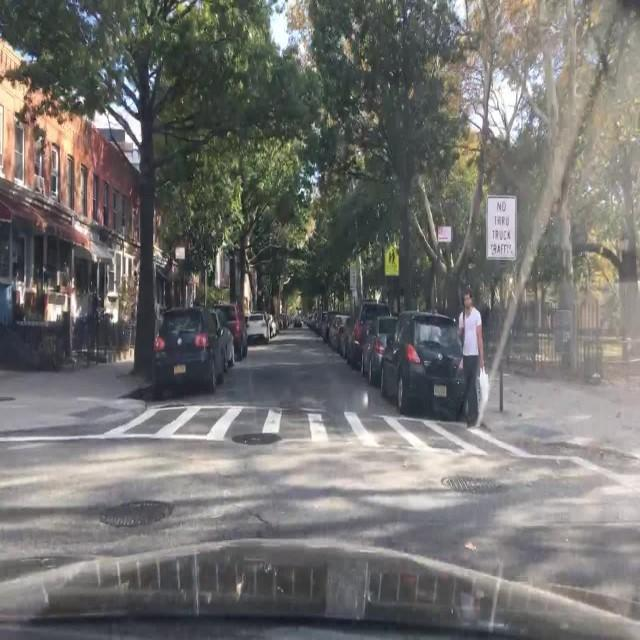normal: (374, 309, 482, 423), (154, 308, 237, 396), (344, 301, 393, 373), (216, 304, 248, 362), (246, 312, 274, 341), (325, 312, 348, 347)
